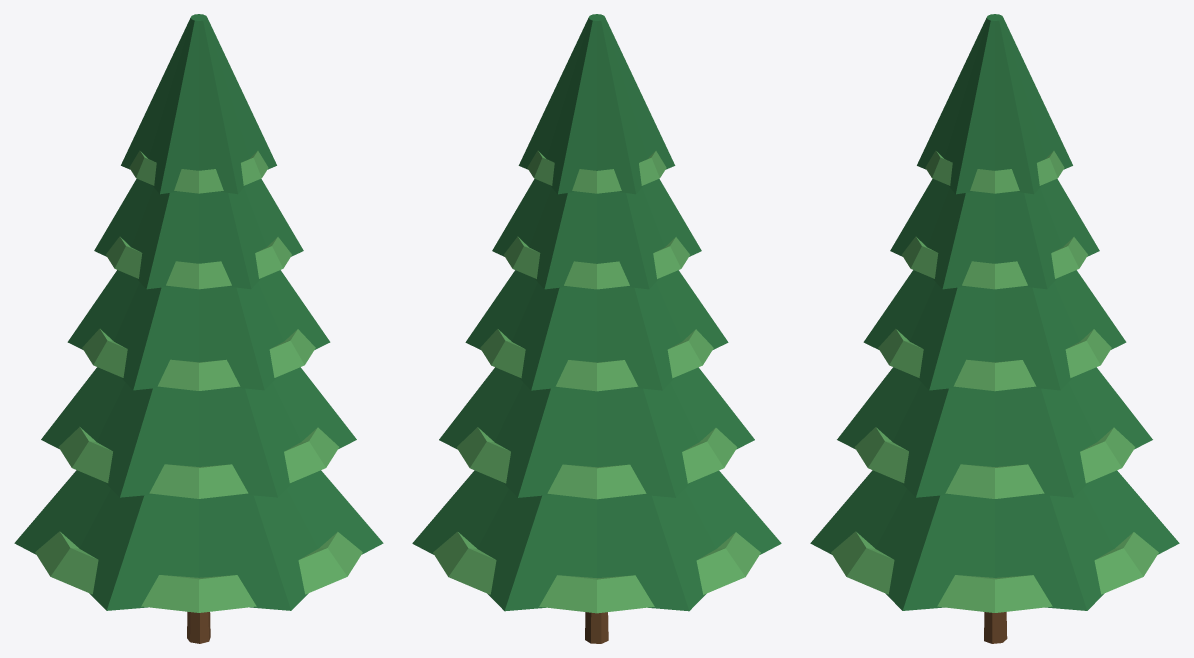
The model's file is nat_pine_b_v01.glb.
The picture shows the model from 3 angles, left to right: view 1: azimuth 30°, elevation 25°; view 2: azimuth 150°, elevation 25°; view 3: azimuth 270°, elevation 25°; orthographic projection.
Visible parts, largest first — view 1: pine; view 2: pine; view 3: pine.
Part boxes in pixels (x1,y1,x2,y2): pine: [14, 14, 383, 643]; pine: [412, 14, 781, 643]; pine: [810, 14, 1179, 643].
Size of the model in its own units: 4 by 8 by 4.31.
